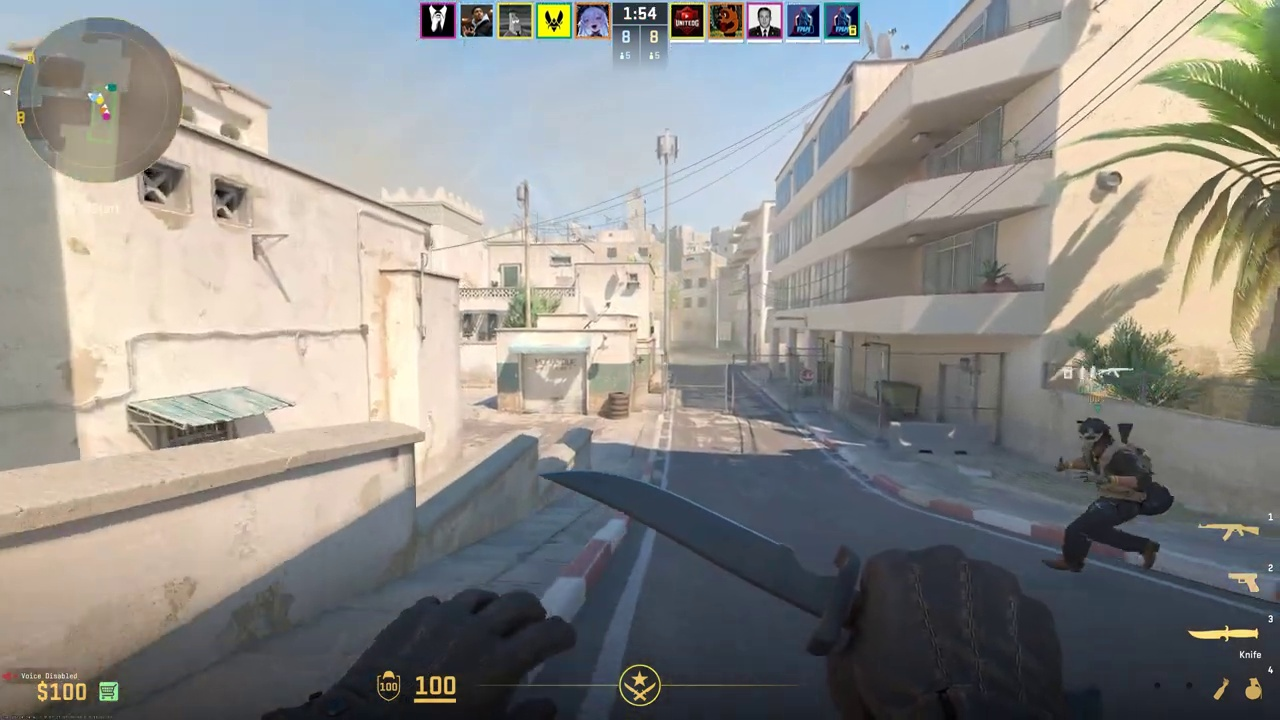Terrorist: (1064, 417, 1158, 575)
